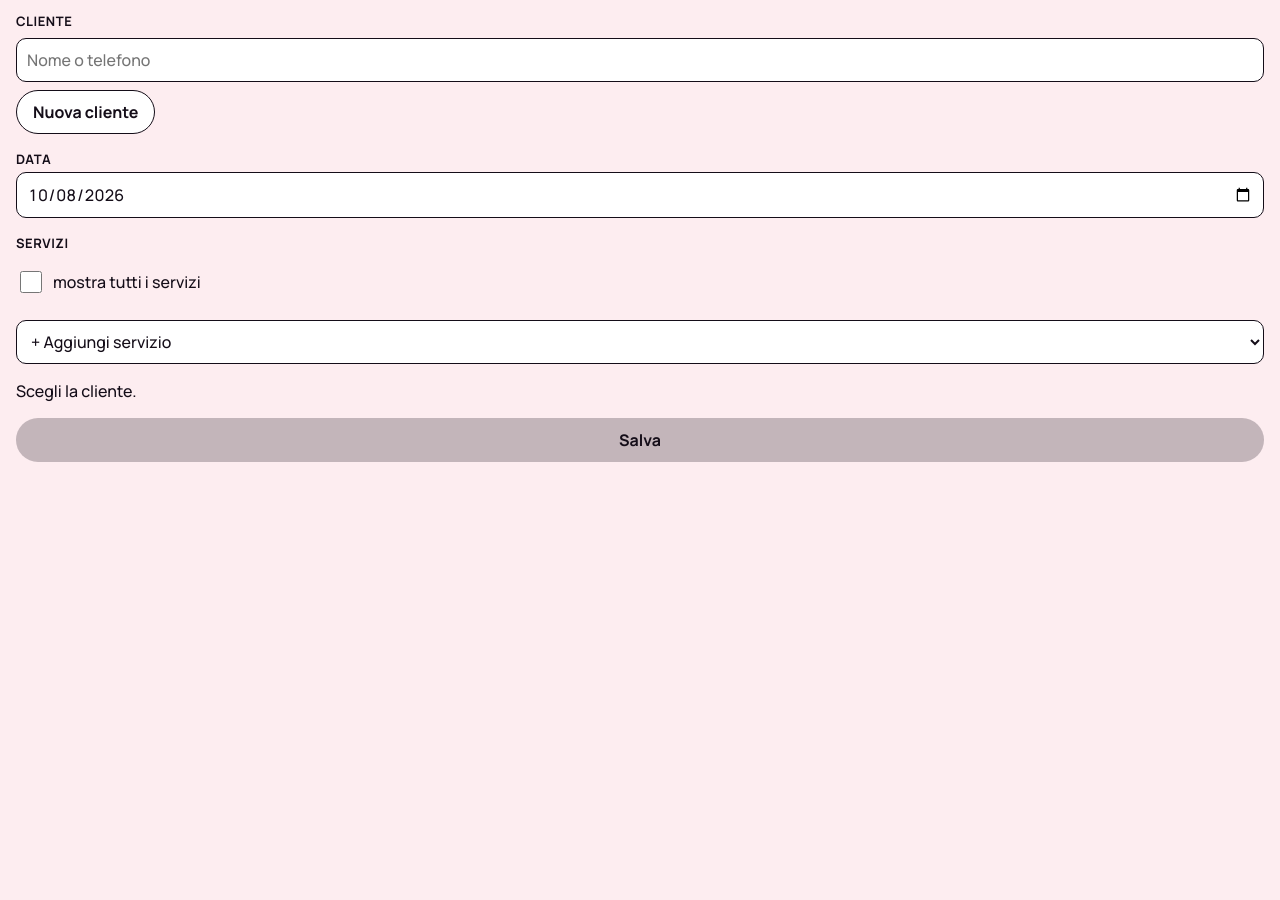
Test case: la revisione del Task 7: il collegamento di «Salva» e della frase dei conflitti › un conflitto fra due servizi della scheda non offre «Vai lì», che chiuderebbe la scheda (C2)
The width and height of the screenshot is (1280, 900).
Select "Refill gel" in the dropdown named "Aggiungi servizio" at point(640, 342), box [16, 320, 1264, 364]
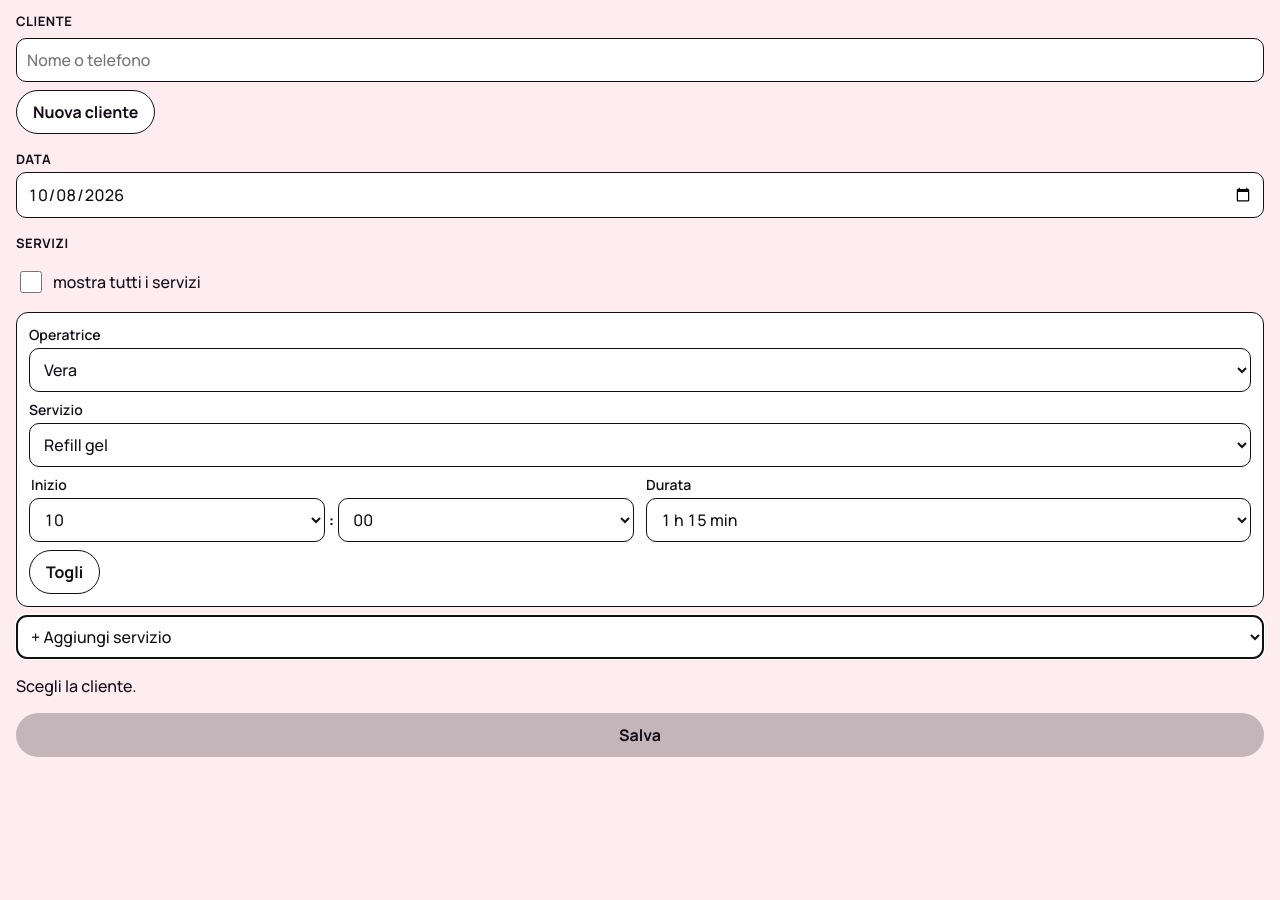
Select "Refill gel" in the dropdown named "Aggiungi servizio" at point(640, 637), box [16, 615, 1264, 659]
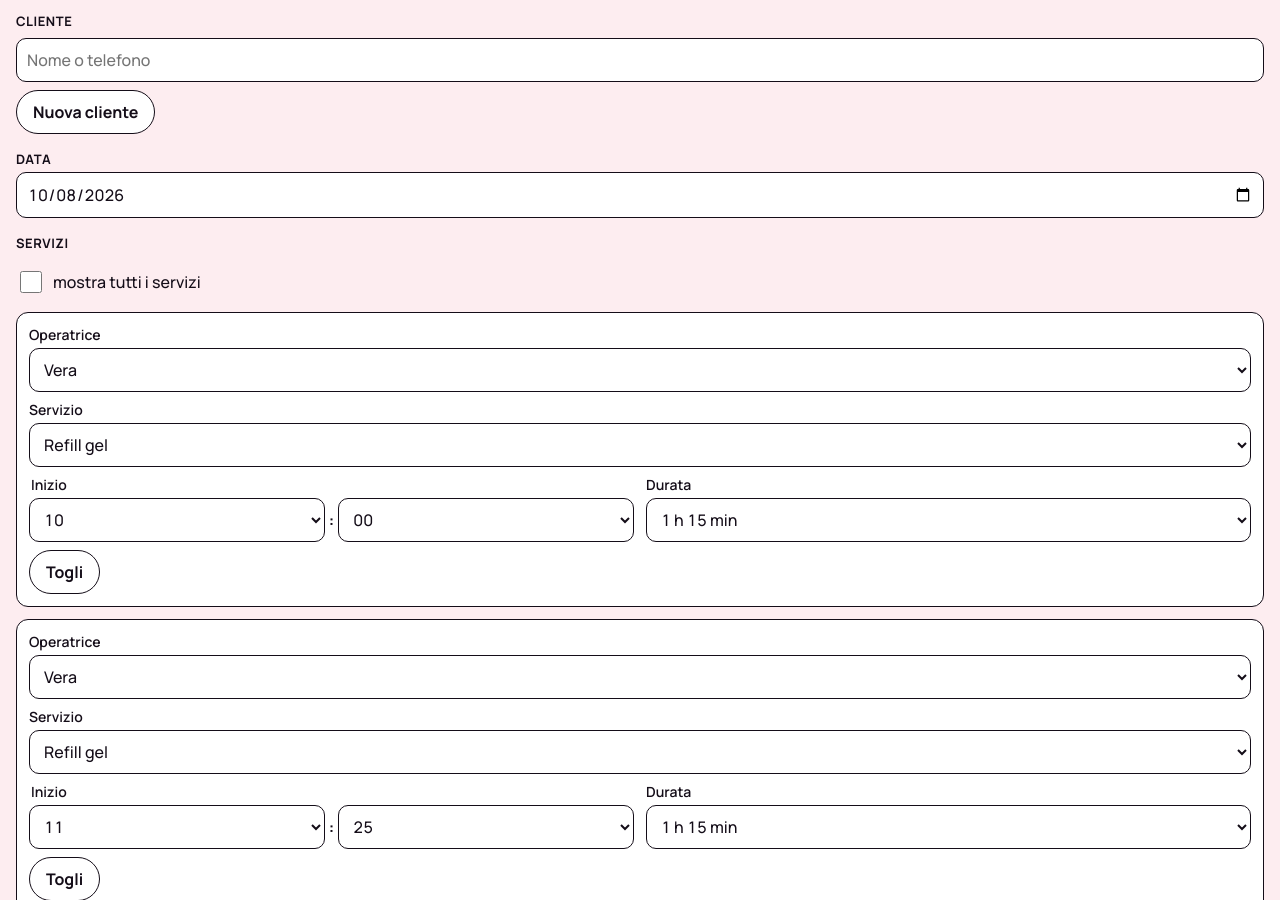
Select "05" in the 2nd dropdown named "Minuti d’inizio" at point(486, 827), box [338, 805, 634, 849]
(page scrolled)
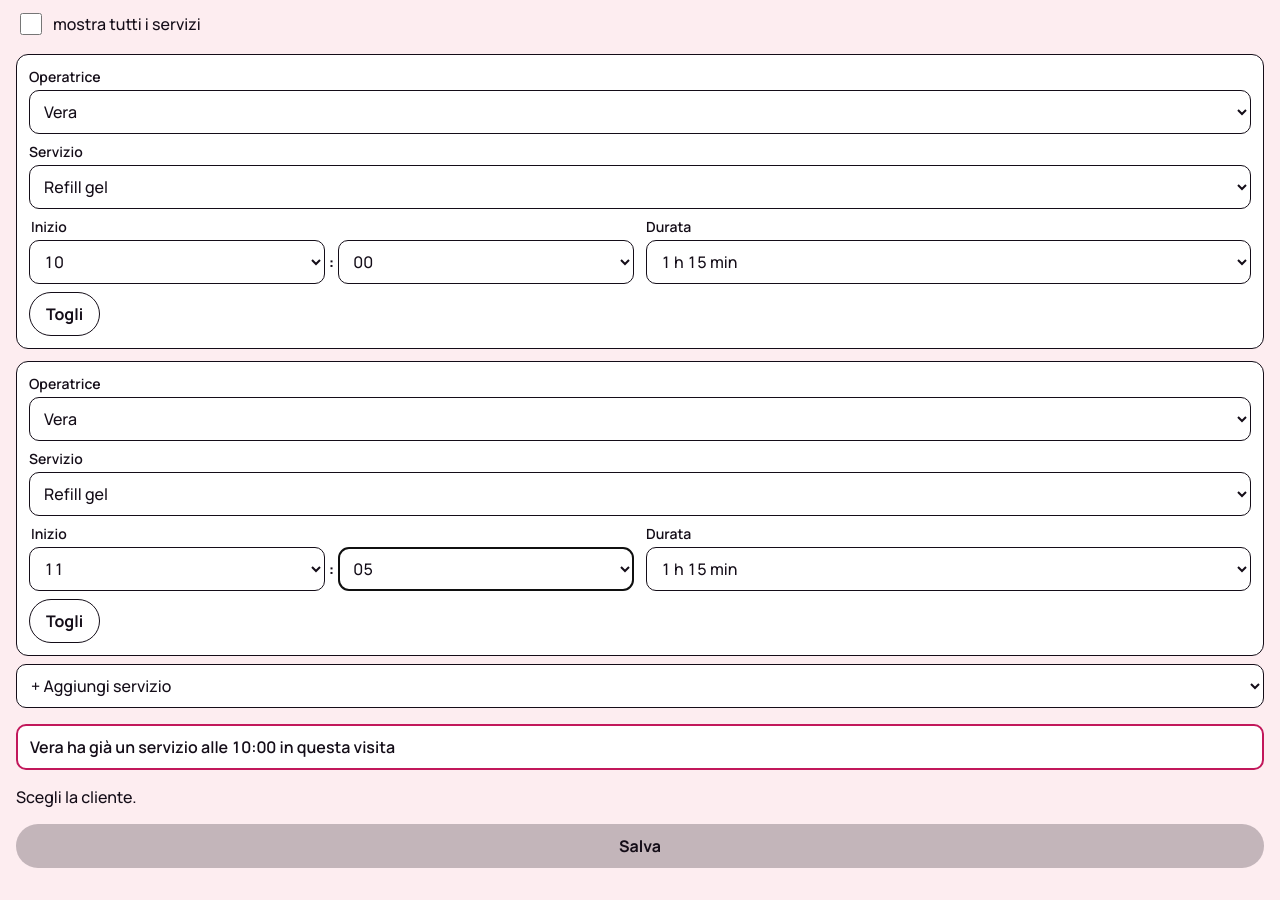
Expected: the message reads "Vera ha già un servizio alle 10:00 in questa visita", [30, 736, 395, 758]
